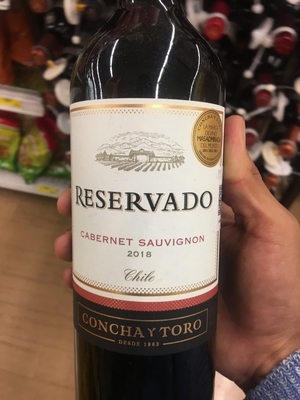reservado cabernet sauvignon: (69, 15, 225, 400)
